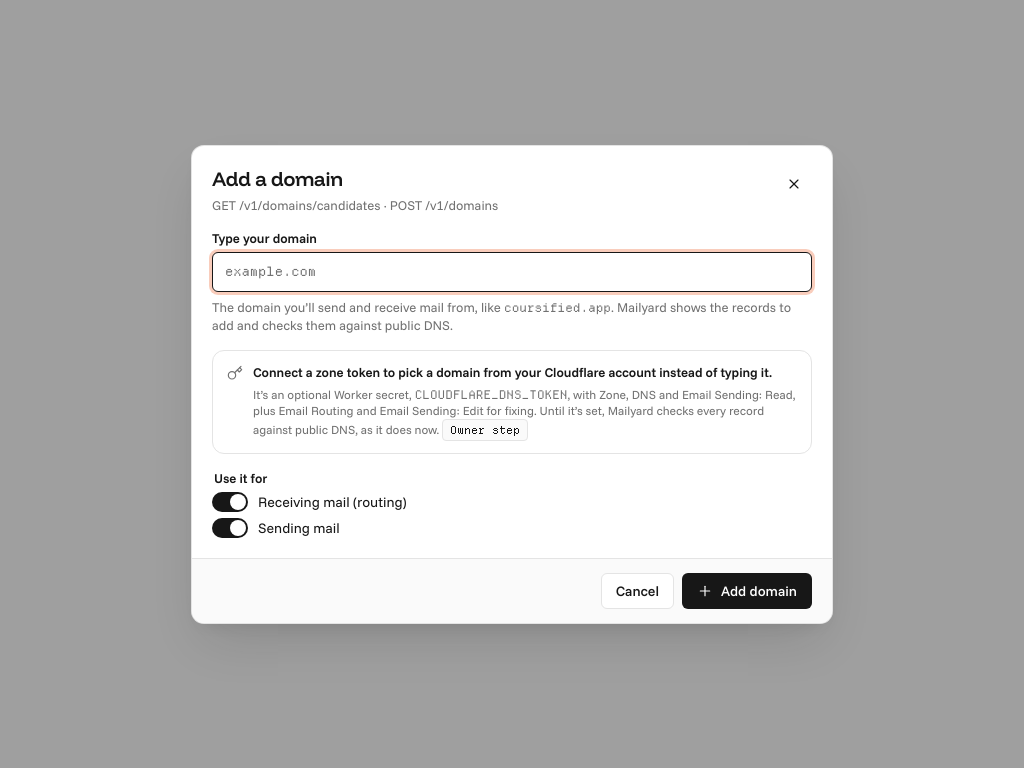
adding a domain › refuses a name that isn't a domain before any request
Type "not a domain" into the field labelled "Type your domain" at (512, 272), box [212,252,812,292]
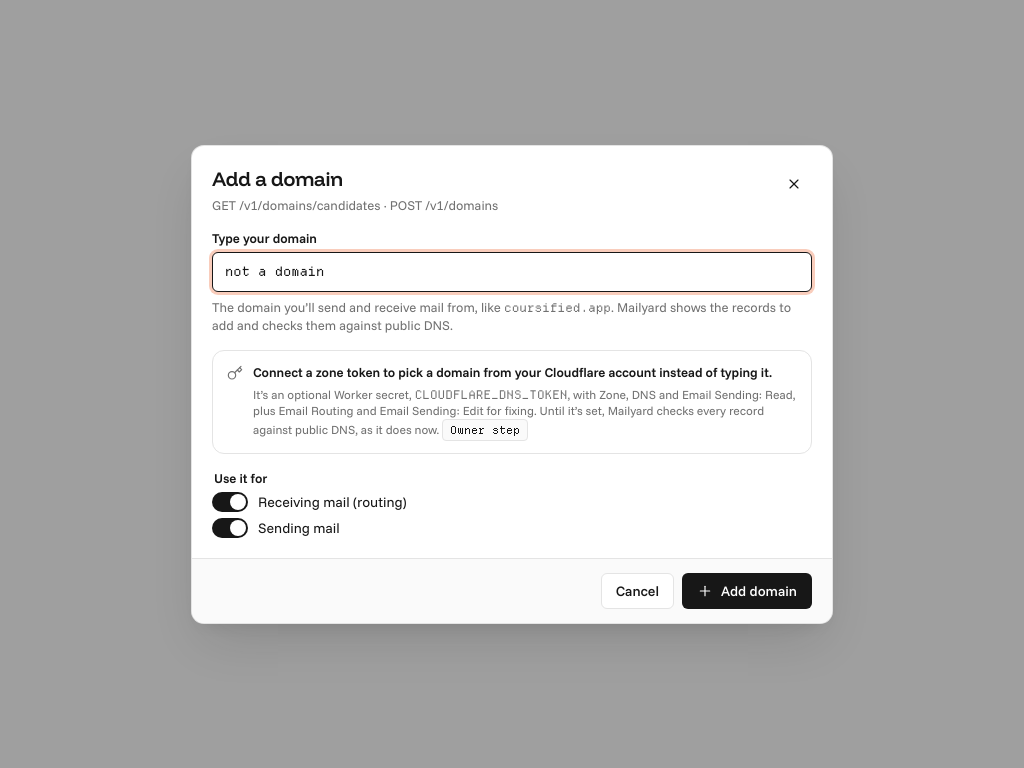
Click the button "Add domain" at (747, 590), box [682,572,812,608]
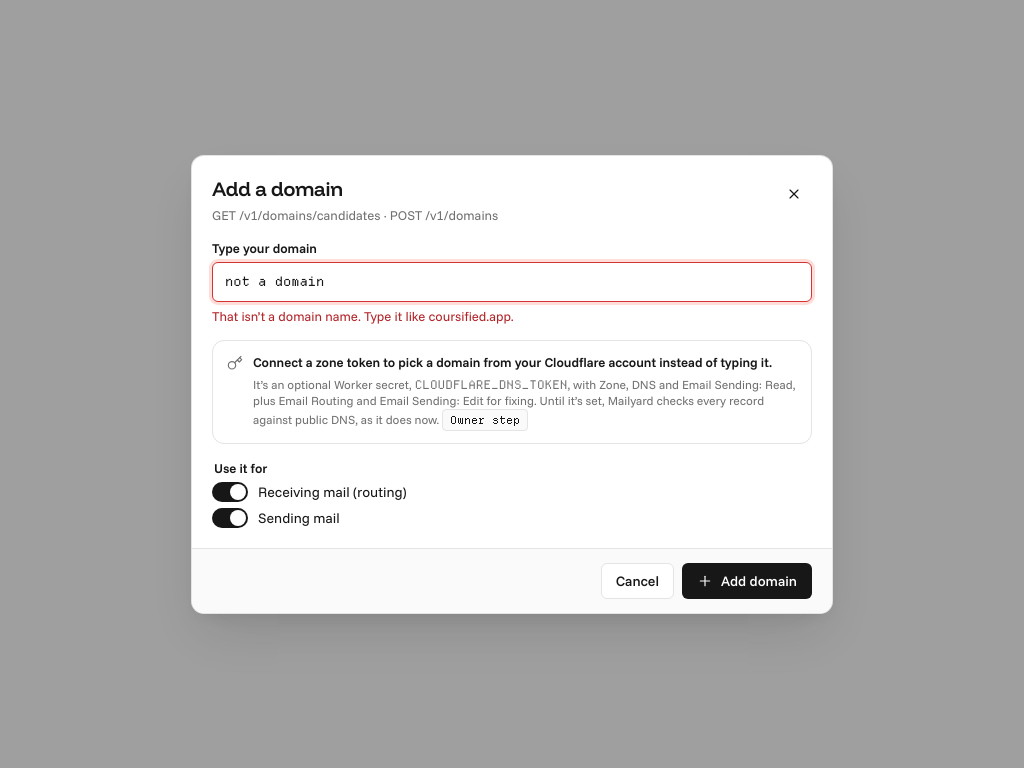
Check: the message shows "isn’t a domain name", box [212,308,514,324]
